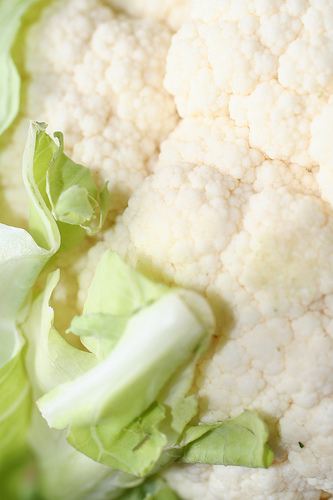cauliflower: (0, 2, 331, 498)
